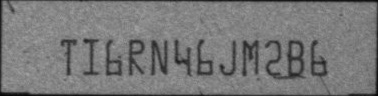2: (264, 39, 282, 76)
4: (174, 39, 192, 76)
6: (310, 38, 328, 76), (105, 38, 122, 75), (196, 39, 213, 74)
B: (286, 38, 305, 76)
I: (83, 37, 99, 75)
J: (219, 37, 237, 77)
M: (241, 37, 259, 76)
N: (150, 37, 169, 76)
R: (128, 38, 146, 75)
T: (60, 37, 77, 76)
